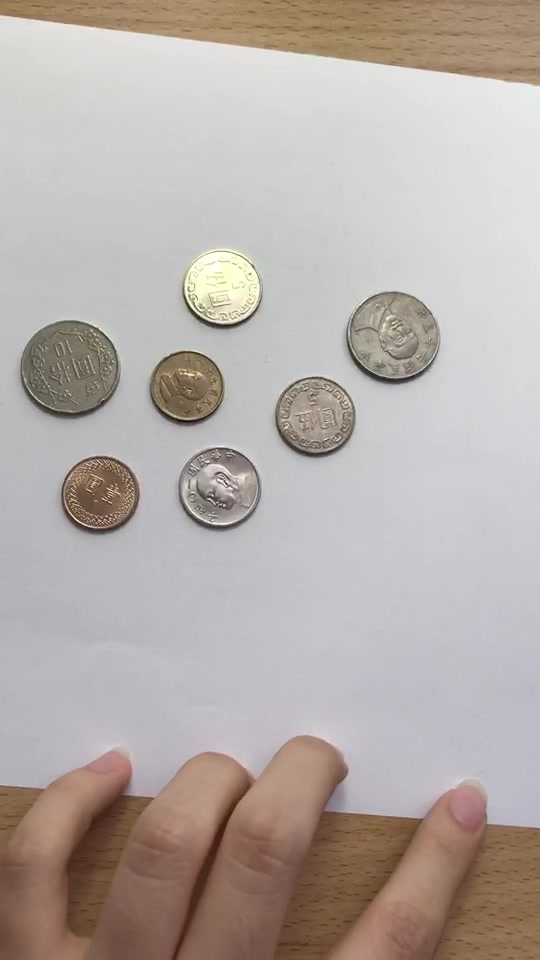1 dallar: (144, 350, 230, 433), (60, 449, 141, 537)
10 dallar: (17, 314, 125, 422), (339, 282, 447, 390)
5 dallar: (181, 238, 270, 335), (269, 367, 358, 464), (177, 438, 266, 535)
